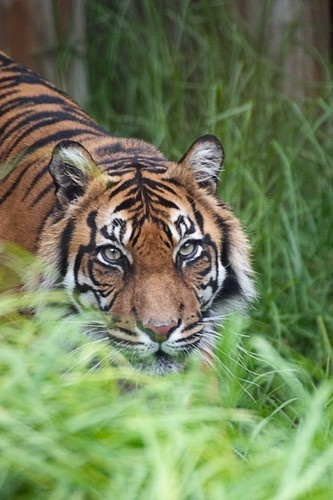tigre: (1, 45, 264, 398)
